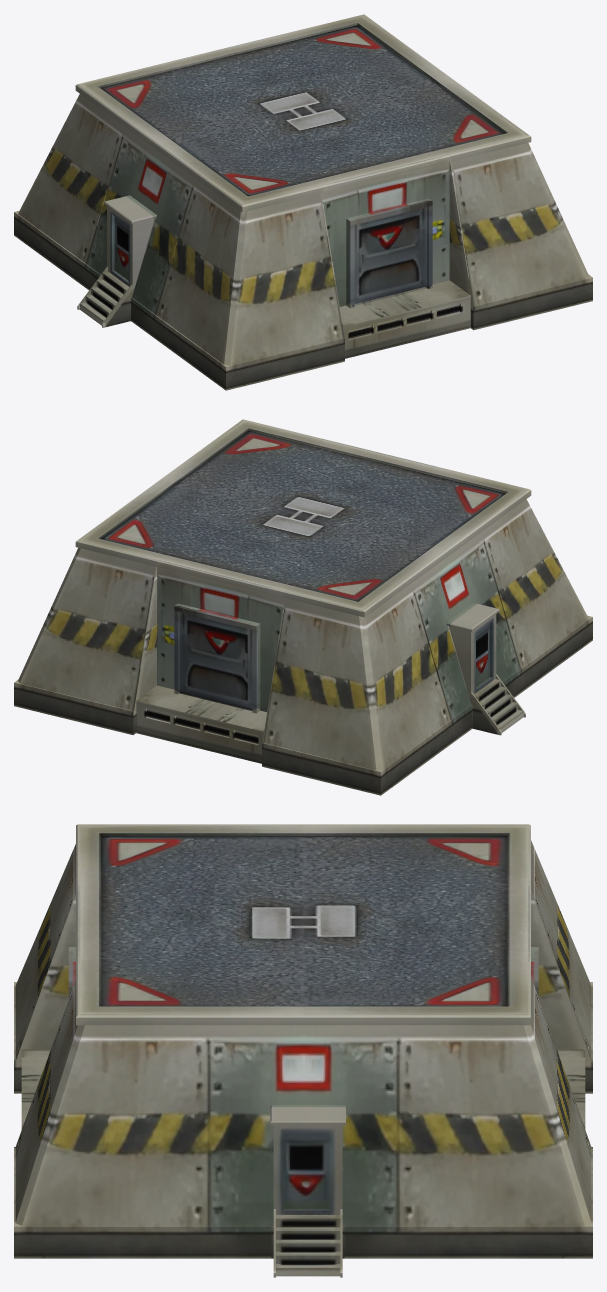
The model's file is ammodump_cad.glb.
3 renders of one model, top to bottom at view 1: azimuth 30°, elevation 25°; view 2: azimuth 150°, elevation 25°; view 3: azimuth 270°, elevation 25°, orthographic. The views are drawn at different scales.
Parts seen in each view (by area): view 1: Ammo Dump; view 2: Ammo Dump; view 3: Ammo Dump.
Boxes of the visible parts, <box> form: Ammo Dump: <box>14,14,592,390</box>; Ammo Dump: <box>14,419,592,795</box>; Ammo Dump: <box>14,824,592,1277</box>.
Size of the model in its own units: 16.38 by 5.86 by 14.21.
1 material, 1 textured.
